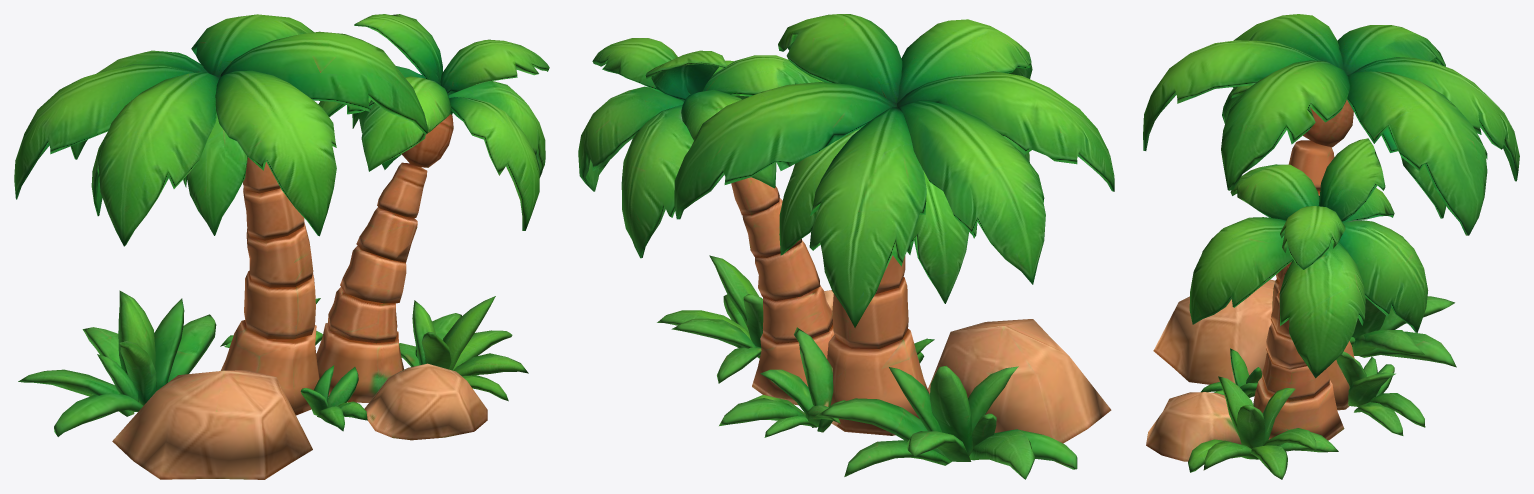
File: s2_r6c4_palm_tree_cluster.glb
3 views of the same model, side by side, from view 1: azimuth 30°, elevation 25°; view 2: azimuth 150°, elevation 25°; view 3: azimuth 270°, elevation 25° (orthographic). The views are drawn at different scales.
Bounding box in the file's own units: 1 × 0.7174 × 0.7246.
Materials: 1 (1 with a texture image).
